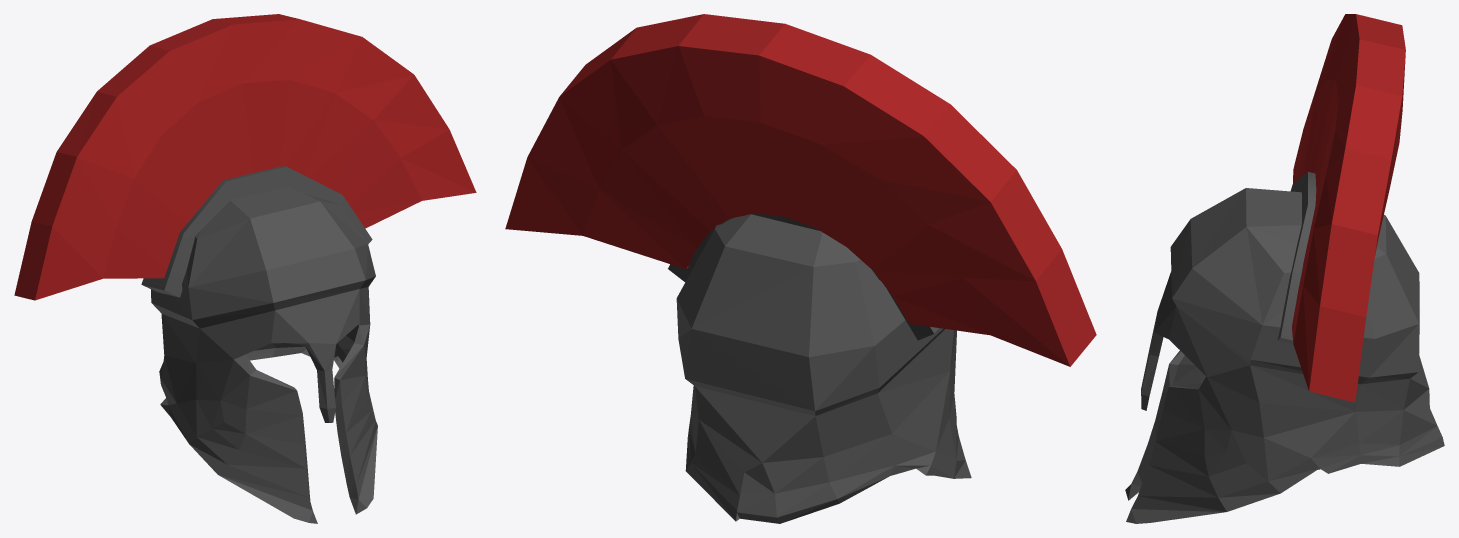
File: SM_helmet_greek_02.fbx
3 renders of one model, left to right at view 1: azimuth 30°, elevation 25°; view 2: azimuth 150°, elevation 25°; view 3: azimuth 270°, elevation 25°, orthographic. The views are drawn at different scales.
Parts seen in each view (by area): view 1: Object32303; view 2: Object32303; view 3: Object32303.
Part boxes in pixels (bbox=[...]): Object32303: bbox=[14, 14, 476, 523]; Object32303: bbox=[505, 14, 1096, 523]; Object32303: bbox=[1125, 14, 1444, 523].
Size of the model in its own units: 22.94 by 20.84 by 12.79.
